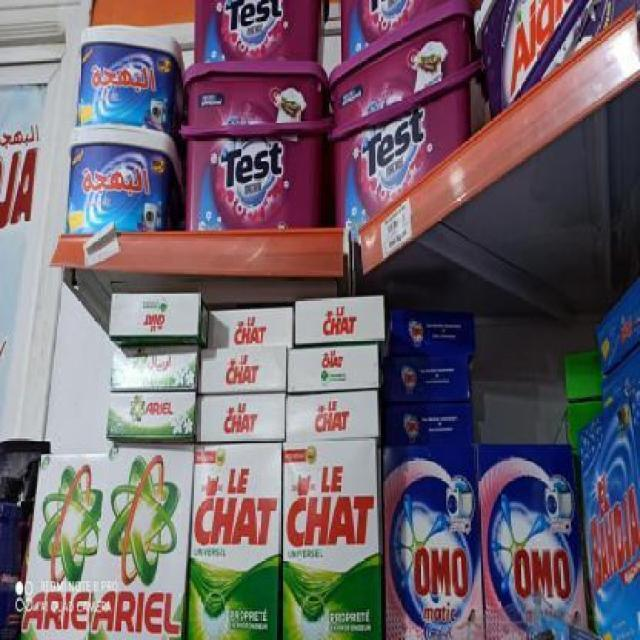Detergent: (87, 441, 186, 640), (17, 447, 92, 640), (108, 332, 200, 394), (113, 386, 199, 443)
